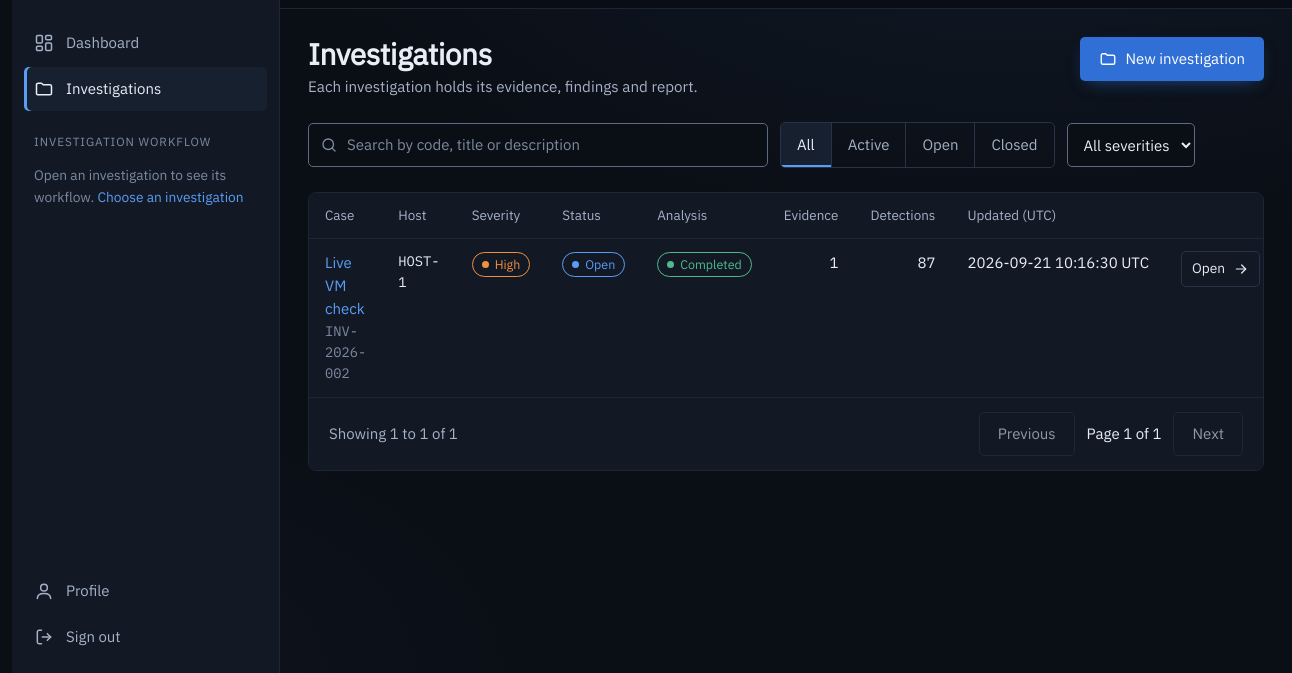
Test: opening an investigation › opens the investigation when any other part of the row is clicked
Click the text "HOST-1". click: (419, 318)
box: [382, 238, 456, 397]
(page scrolled)
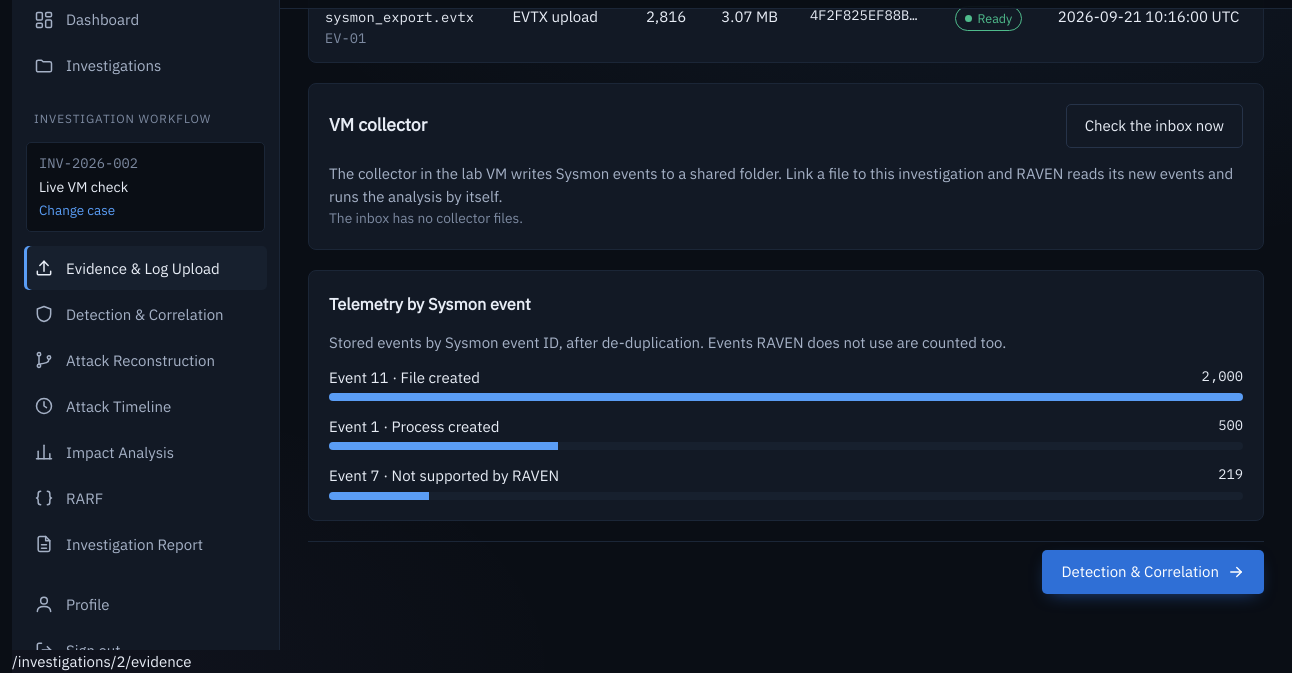
Check: the text with test id "location" reads "/investigations/2/evidence", box [12, 652, 191, 671]
